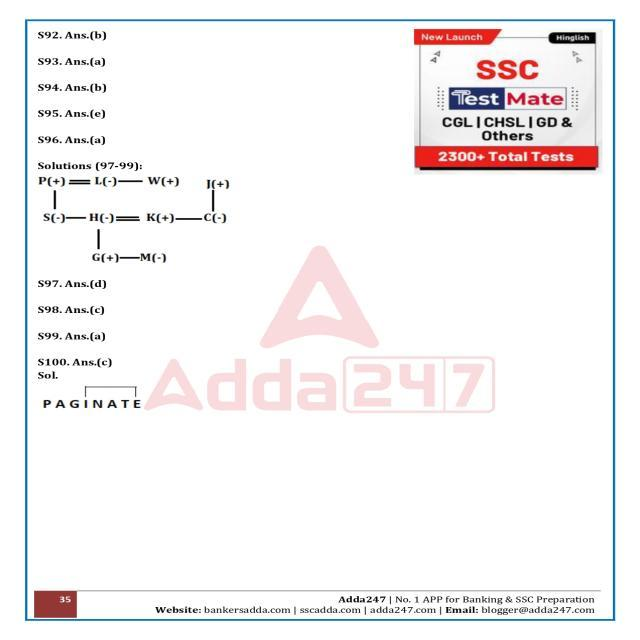Description: (24, 160, 615, 272), (26, 359, 606, 414), (24, 21, 615, 48), (26, 326, 606, 352), (28, 274, 608, 299), (26, 300, 606, 325), (24, 51, 615, 74), (24, 131, 615, 154), (24, 78, 615, 100), (24, 104, 615, 126)
Question_Answer_Block: (24, 20, 615, 580)
Question_Paper_Area: (24, 20, 615, 580)
